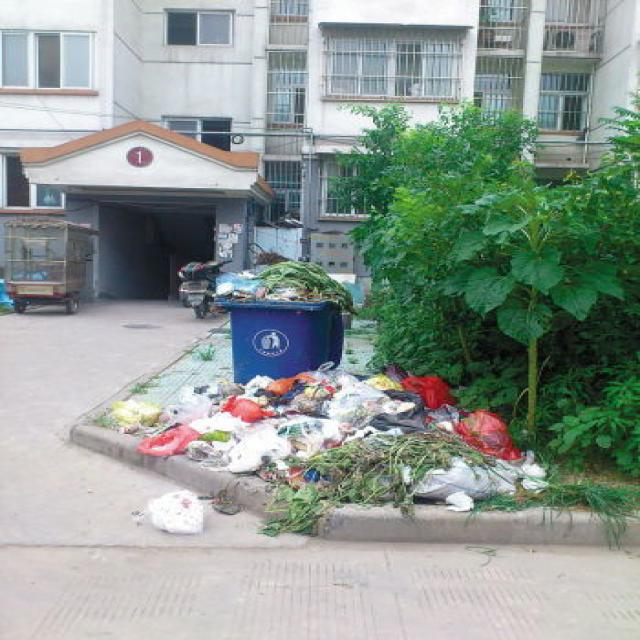garbage: (99, 358, 546, 534)
overflow: (214, 262, 355, 383)
